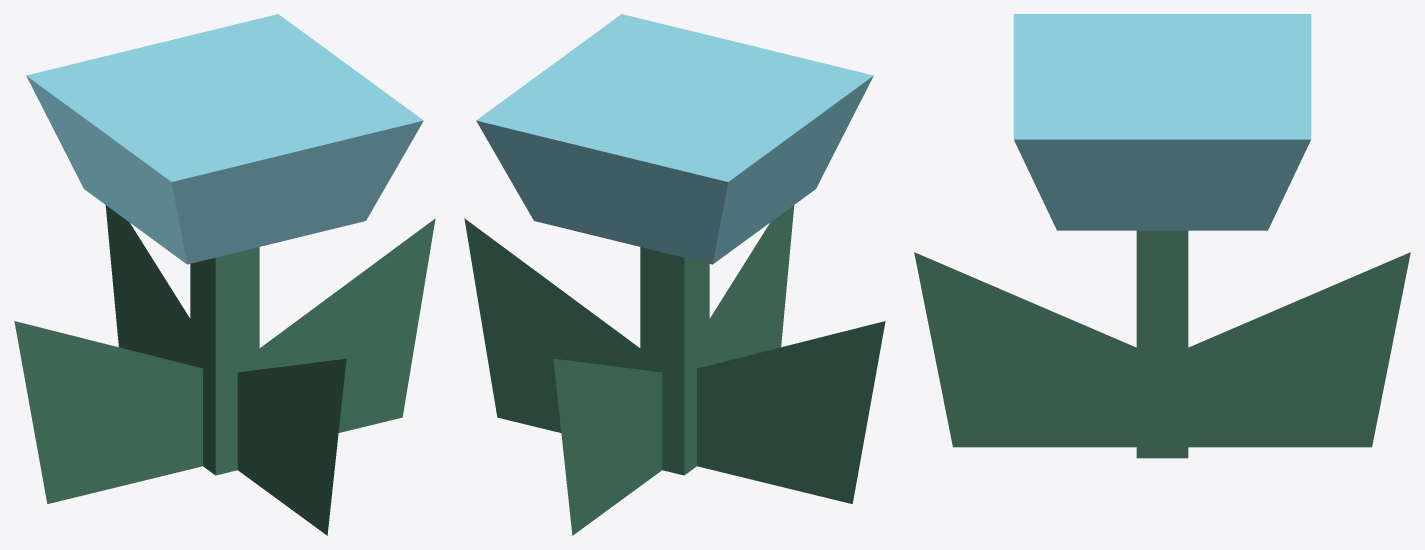
File: Flower_Yellow_01.obj
The picture shows the model from 3 angles, left to right: view 1: azimuth 30°, elevation 25°; view 2: azimuth 150°, elevation 25°; view 3: azimuth 270°, elevation 25°; orthographic projection. The views are drawn at different scales.
Parts seen in each view (by area): view 1: Mesh3_Flower_Yellow_Model; view 2: Mesh3_Flower_Yellow_Model; view 3: Mesh3_Flower_Yellow_Model.
Part boxes in pixels (x1=…): Mesh3_Flower_Yellow_Model: x1=14, y1=14, x2=435, y2=535; Mesh3_Flower_Yellow_Model: x1=464, y1=14, x2=885, y2=535; Mesh3_Flower_Yellow_Model: x1=914, y1=14, x2=1410, y2=458.
Bounding box in the file's own units: 0.4859 × 0.4 × 0.4859.
